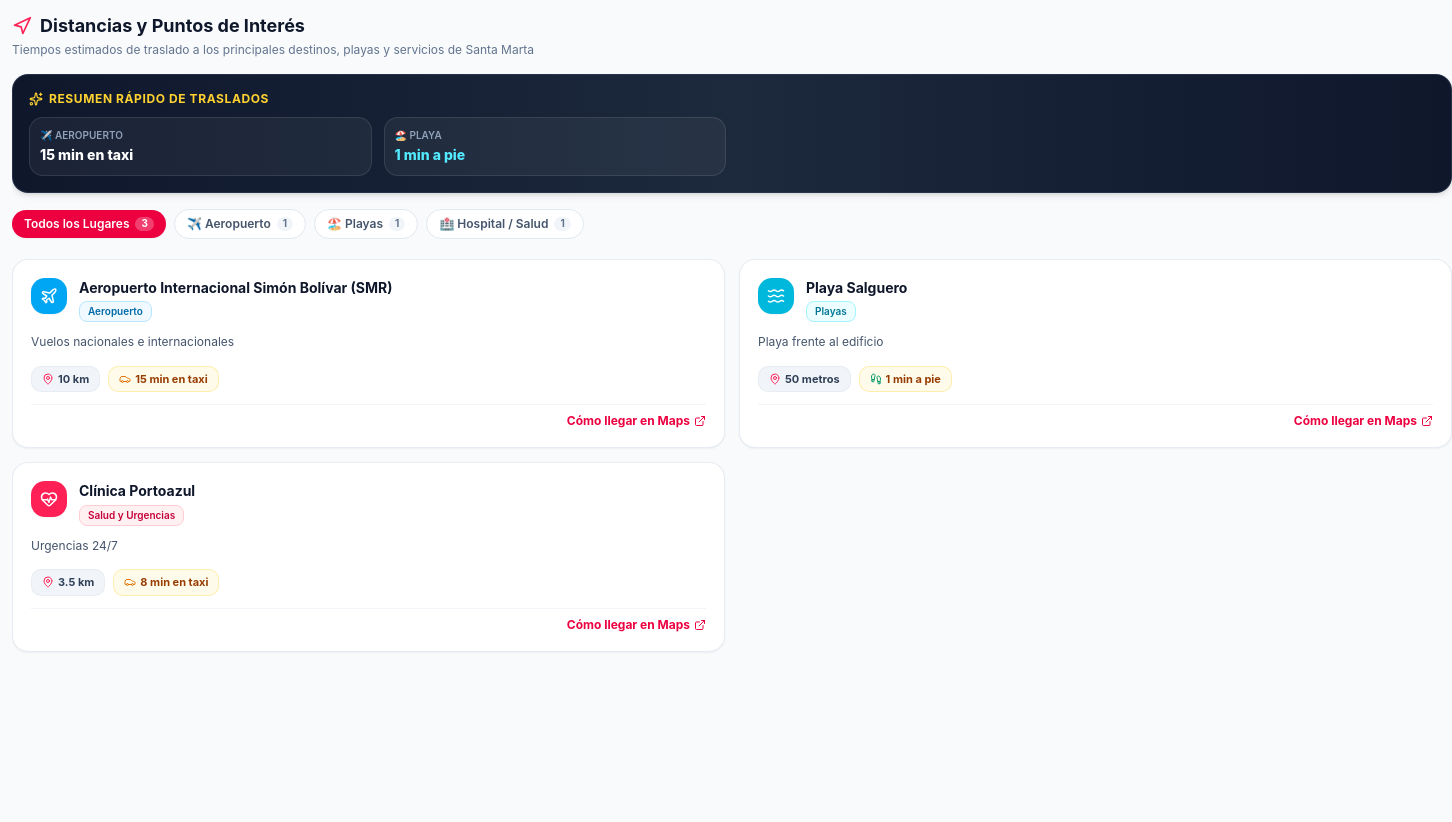
Scenario: KeyDistancesSection › filters places by category when filter chip is clicked
Note: Click on Beach filter
What coordinates should you click on to do the following:
click the button "🏖️ Playas 1"
I would click on:
 (366, 224)
Its box is top-left (314, 209), bottom-right (418, 239).
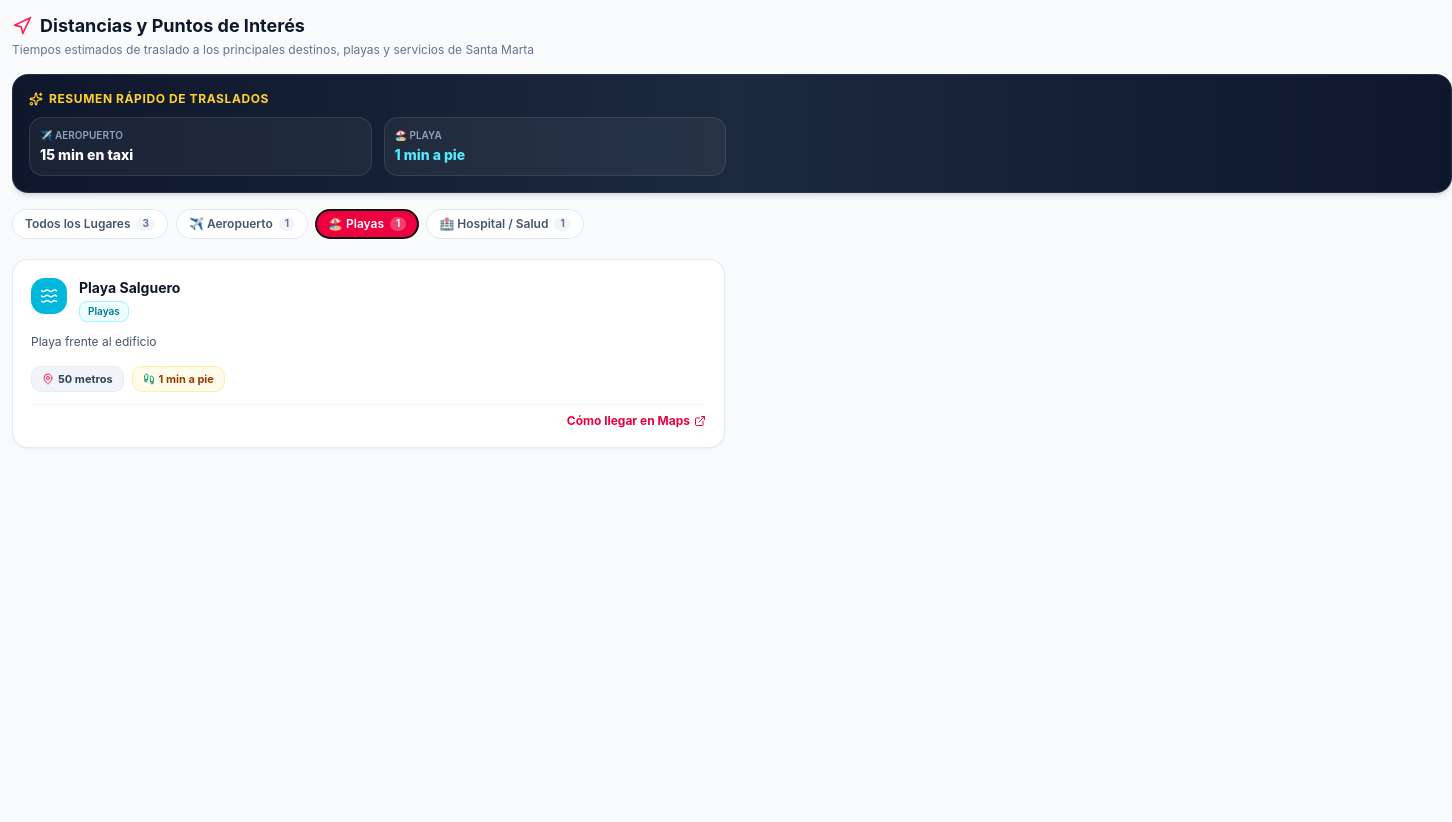
Expected: the heading "Playa Salguero" is shown, top-left (79, 278), bottom-right (180, 297)
Expected: the heading "Aeropuerto Internacional Simón Bolívar (SMR)" is gone
